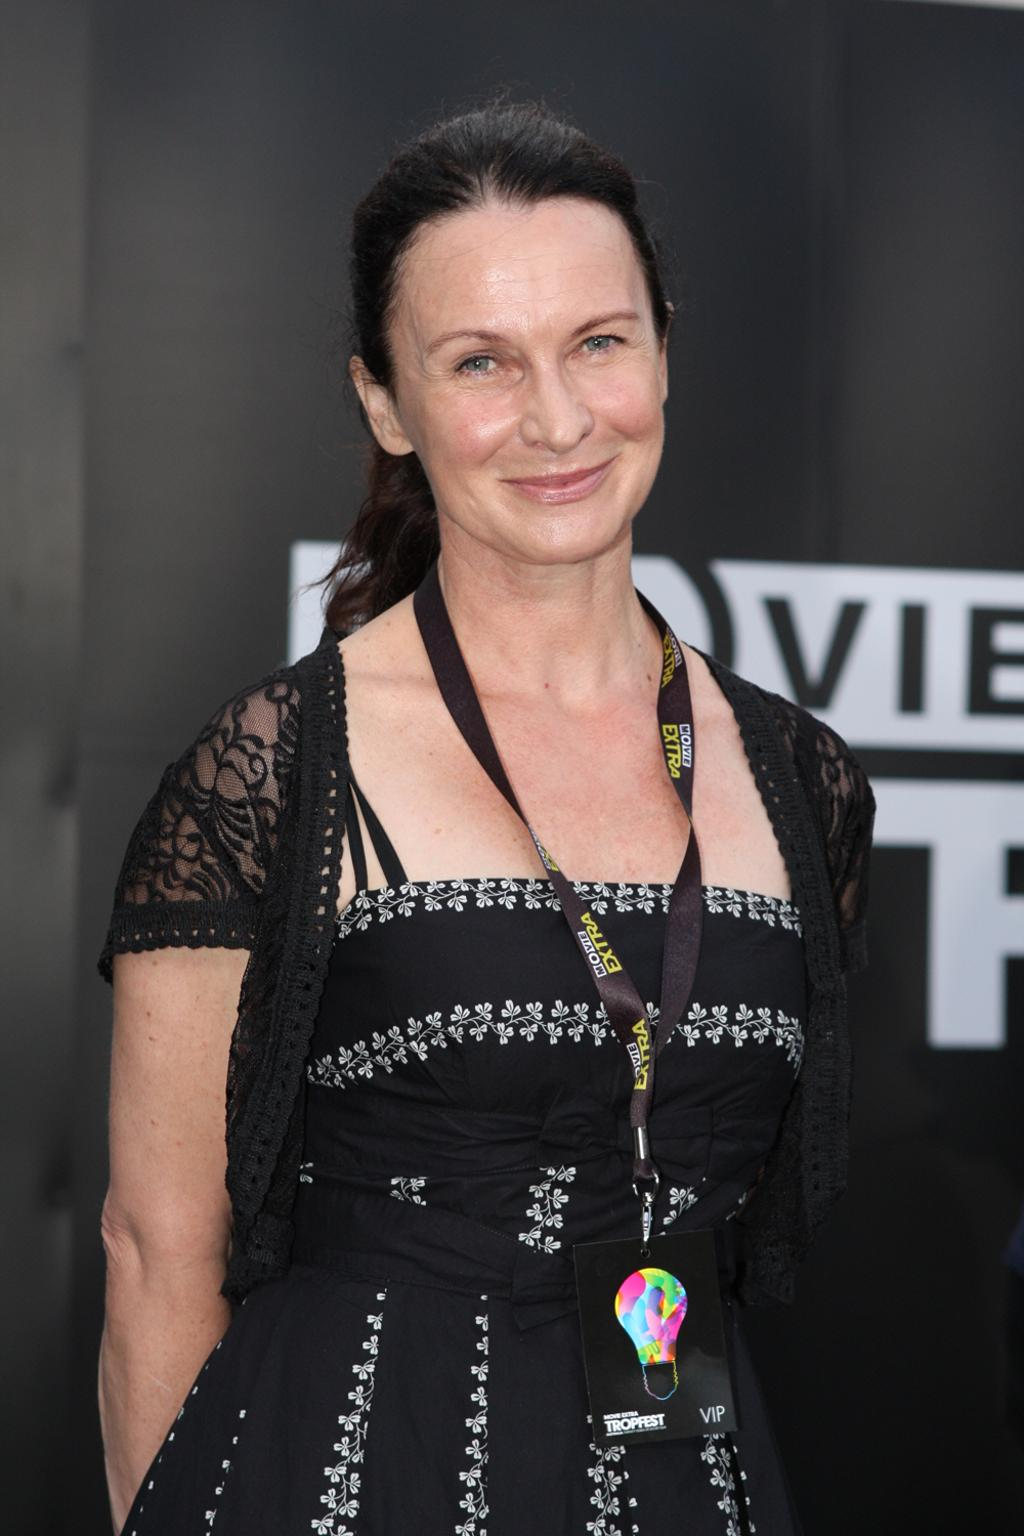face: (393, 204, 660, 564)
